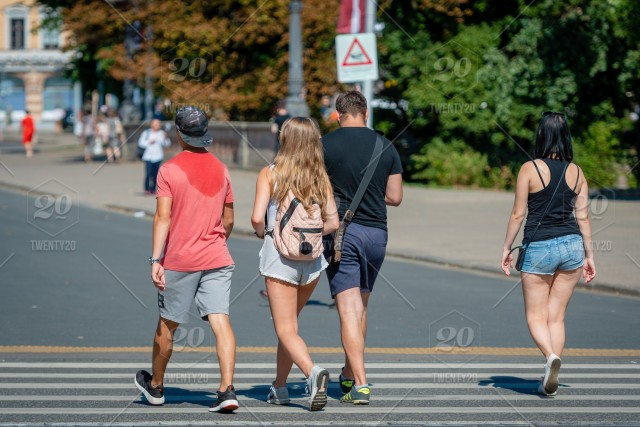person: (144, 107, 244, 414), (504, 114, 601, 397), (329, 91, 403, 404), (254, 116, 332, 410)
